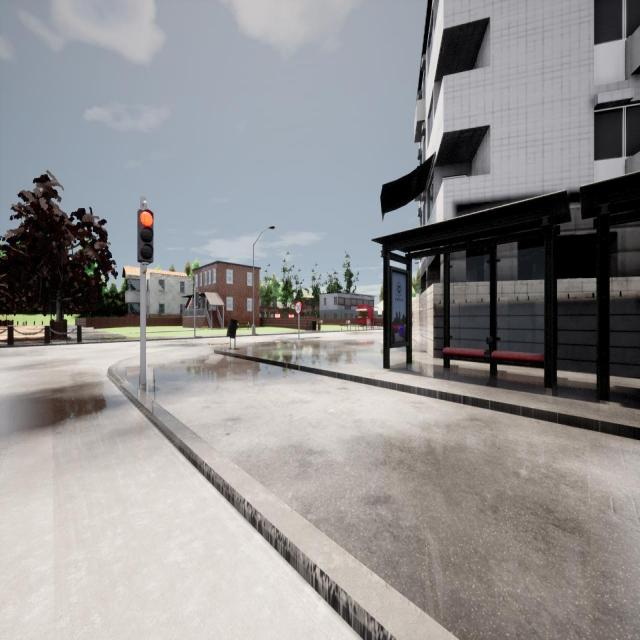Traffic_Signs: (296, 301, 302, 313)
traffic_light: (138, 209, 154, 263), (195, 292, 201, 305)
